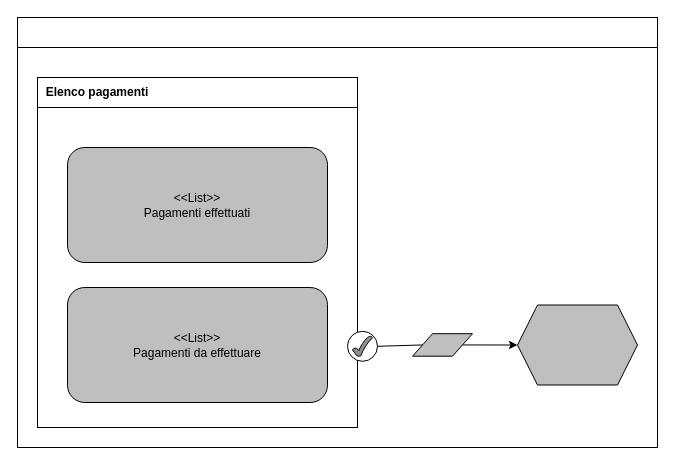
The diagram is 675 pixels wide and 465 high, and some of its shapes have lost their labels. Each missing label, with the centre of its shape:
"Pagamenti" goes at point 337,32.
"Scarica MAV" goes at point 577,344.
